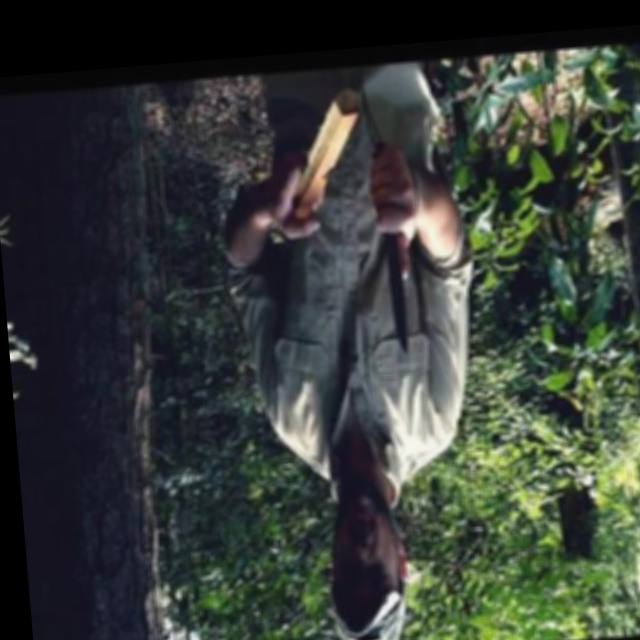Sharp-Object: (371, 138, 410, 355)
